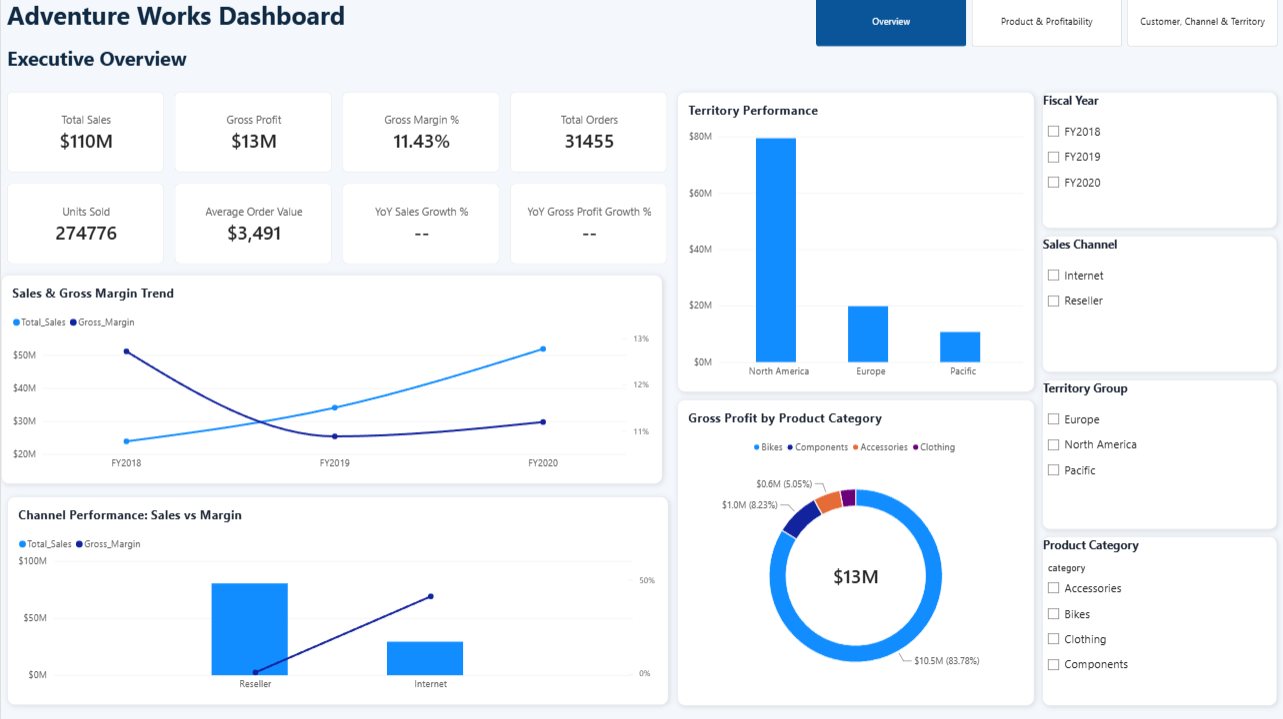

What the dashboard file says about the page in this screenshot:
{"tool":"powerbi","page":{"name":"Overview","canvas":[1920,1080],"ordinal":0},"visuals":[{"type":"cardVisual","fields":{"Data":["public fact_sales.Total_Sales","public fact_sales.Gross_Profit","public fact_sales.Gross_Margin","public fact_sales.Total_Orders","public fact_sales.Units_Sold","public fact_sales.Average_Order_value","public fact_sales.YoY_Sales_Growth","public fact_sales.YoY_Gross_Profit_Growth"]},"box":[9,141,990,259],"z":0},{"type":"lineChart","title":"Sales & Gross Margin Trend","fields":{"Category":["public dim_date.fiscal_year","public dim_date.fiscal_quarter","public dim_date.month"],"Y":["public fact_sales.Total_Sales"],"Y2":["public fact_sales.Gross_Margin"]},"box":[0,414.2,990,314],"z":1000},{"type":"lineClusteredColumnComboChart","title":"Channel Performance: Sales vs Margin","fields":{"Category":["public dim_sales_order.channel"],"Y":["public fact_sales.Total_Sales"],"Y2":["public fact_sales.Gross_Margin"]},"box":[9,747,990,313],"z":2000},{"type":"lineClusteredColumnComboChart","title":"Territory Performance","fields":{"Category":["public dim_sales_territory.territory_group"],"Y":["public fact_sales.Total_Sales"]},"box":[1011,141,535,450],"z":3000},{"type":"donutChart","title":"Gross Profit by Product Category","fields":{"Category":["public dim_product.category"],"Y":["public fact_sales.Gross_Profit"]},"box":[1011,601,535,459],"z":4000},{"type":"textbox","box":[9,0,620,70],"z":5000},{"type":"textbox","box":[9,70,760,62],"z":6000},{"type":"slicer","title":"Fiscal Year","fields":{"Values":["public dim_date.fiscal_year"]},"box":[1557.2,140.6,352,205],"z":7000},{"type":"slicer","title":"Sales Channel","fields":{"Values":["public dim_sales_order.channel"]},"box":[1558,356,352,205],"z":8000},{"type":"slicer","title":"Territory Group","fields":{"Values":["public dim_sales_territory.territory_group"]},"box":[1558,571,352,225],"z":9000},{"type":"slicer","title":"Product Category","fields":{"Values":["public dim_product.category"]},"box":[1558,806,352,254],"z":10000},{"type":"pageNavigator","box":[1220,0,691,73],"z":11000}]}

Visuals, with their boxes in screenshot pixels (x1, y1, x2, y2), scaled from the page's 1920x1080 canvas onto the 1283x719 screenshot:
cardVisual - public fact_sales.Total_Sales x public fact_sales.Gross_Profit: rect(6, 94, 668, 266)
"Sales & Gross Margin Trend" lineChart: rect(0, 276, 662, 485)
"Channel Performance: Sales vs Margin" lineClusteredColumnComboChart: rect(6, 497, 668, 706)
"Territory Performance" lineClusteredColumnComboChart: rect(676, 94, 1033, 393)
"Gross Profit by Product Category" donutChart: rect(676, 400, 1033, 706)
textbox: rect(6, 0, 420, 47)
textbox: rect(6, 47, 514, 88)
"Fiscal Year" slicer: rect(1041, 94, 1276, 230)
"Sales Channel" slicer: rect(1041, 237, 1276, 373)
"Territory Group" slicer: rect(1041, 380, 1276, 530)
"Product Category" slicer: rect(1041, 537, 1276, 706)
pageNavigator: rect(815, 0, 1277, 49)
